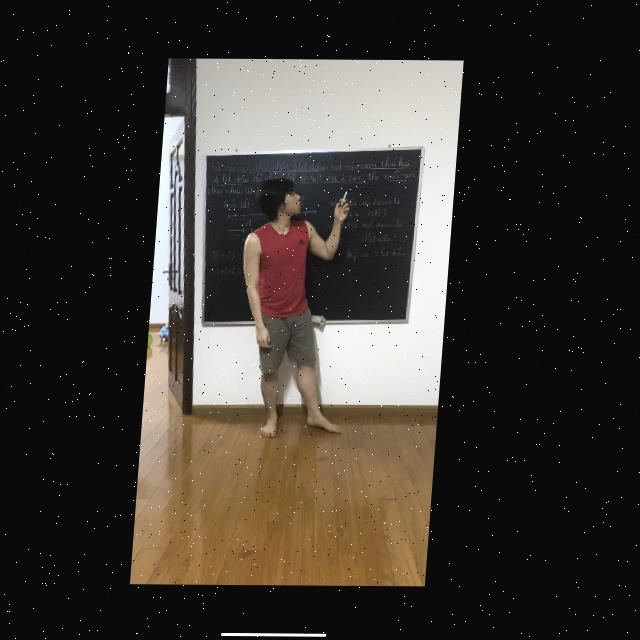cigarette: (344, 191, 350, 204)
